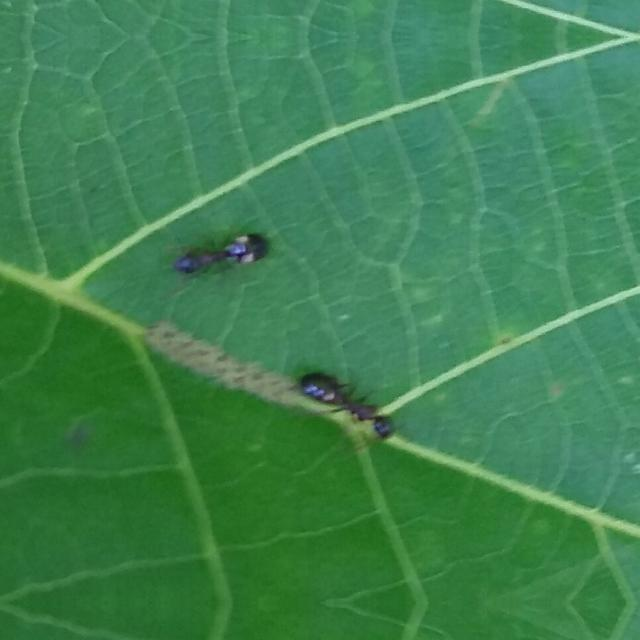Dolichoderus: (278, 352, 422, 453), (158, 219, 284, 289)
